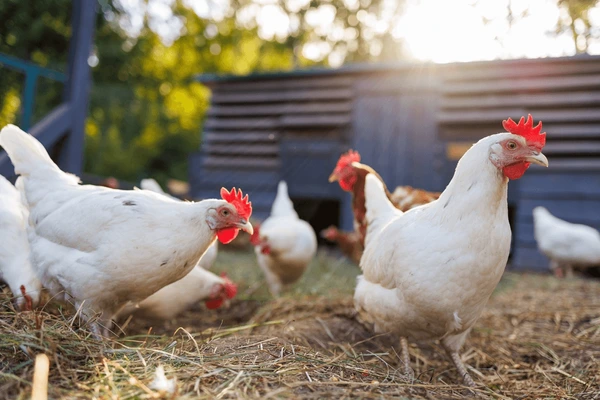Healthy: (1, 120, 258, 368), (347, 109, 554, 400), (253, 173, 321, 324)
